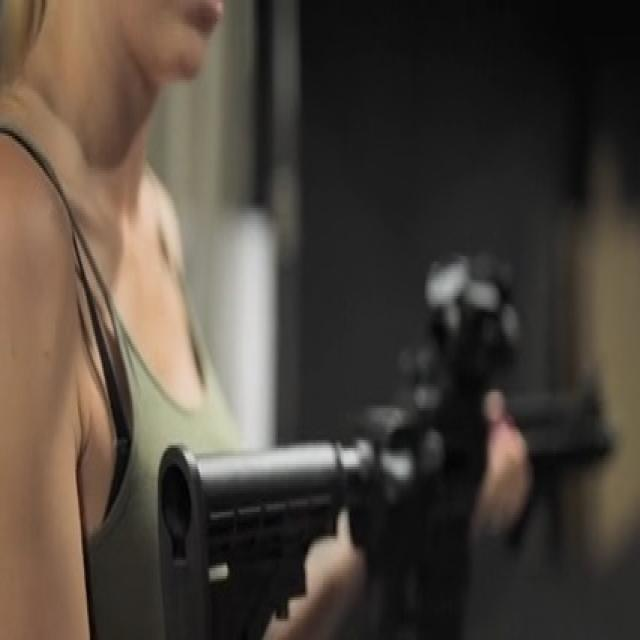Gun_Holder: (141, 228, 640, 640)
